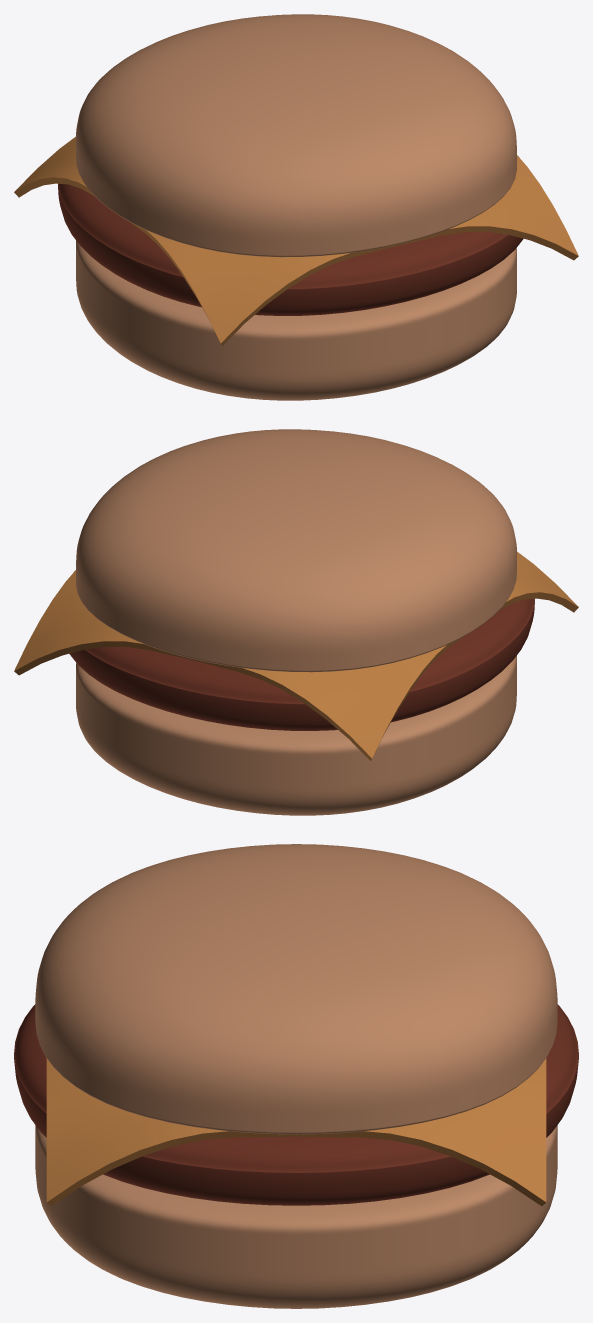
Rendered from hamburger.glb.
3 views of the same model, one above another, from view 1: azimuth 30°, elevation 25°; view 2: azimuth 150°, elevation 25°; view 3: azimuth 270°, elevation 25° (orthographic). The views are drawn at different scales.
Visible parts, largest first — view 1: Cube.002, Cube, Cube.001, Plane; view 2: Cube.002, Cube, Cube.001, Plane; view 3: Cube.002, Cube, Cube.001, Plane.
Part boxes in pixels (<box>): Cube.002: <box>76,14,516,257</box>; Cube: <box>76,240,516,400</box>; Cube.001: <box>58,156,523,315</box>; Plane: <box>14,136,578,345</box>; Cube.002: <box>76,429,516,672</box>; Cube: <box>76,655,516,815</box>; Cube.001: <box>69,571,534,730</box>; Plane: <box>14,551,578,760</box>; Cube.002: <box>35,844,557,1134</box>; Cube: <box>35,1125,557,1308</box>; Cube.001: <box>14,1004,578,1205</box>; Plane: <box>46,1058,546,1206</box>.
Size of the model in its own units: 10 by 6.47 by 10.
